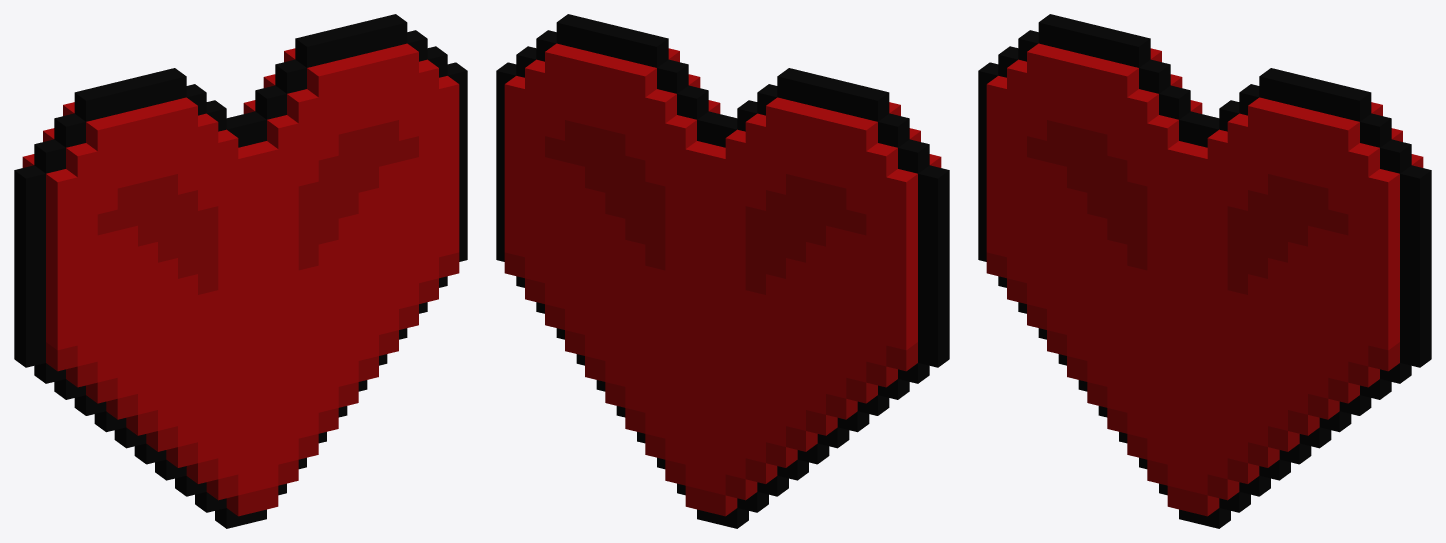
File: heart.obj
3 renders of one model, left to right at view 1: azimuth 30°, elevation 25°; view 2: azimuth 150°, elevation 25°; view 3: azimuth 330°, elevation 25°, orthographic.
Size of the model in its own units: 2.2 by 2.2 by 0.3.
Materials: 1 (1 with a texture image).
